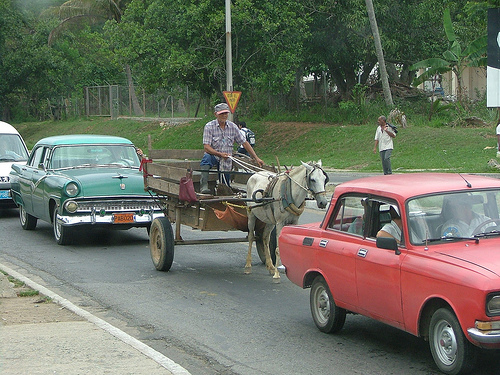horse: (240, 158, 330, 284)
